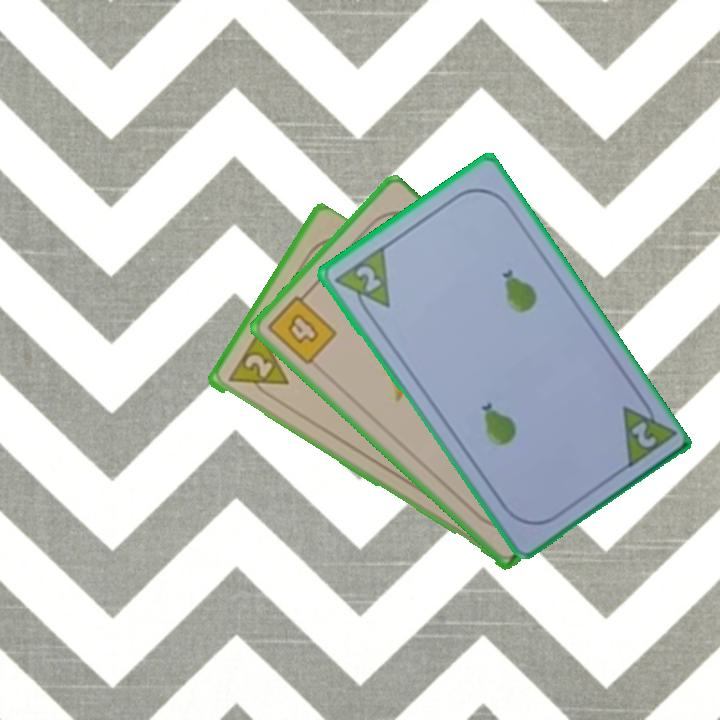2p: (330, 242, 393, 322), (627, 417, 659, 451), (240, 350, 275, 381)
4b: (263, 286, 339, 368)
